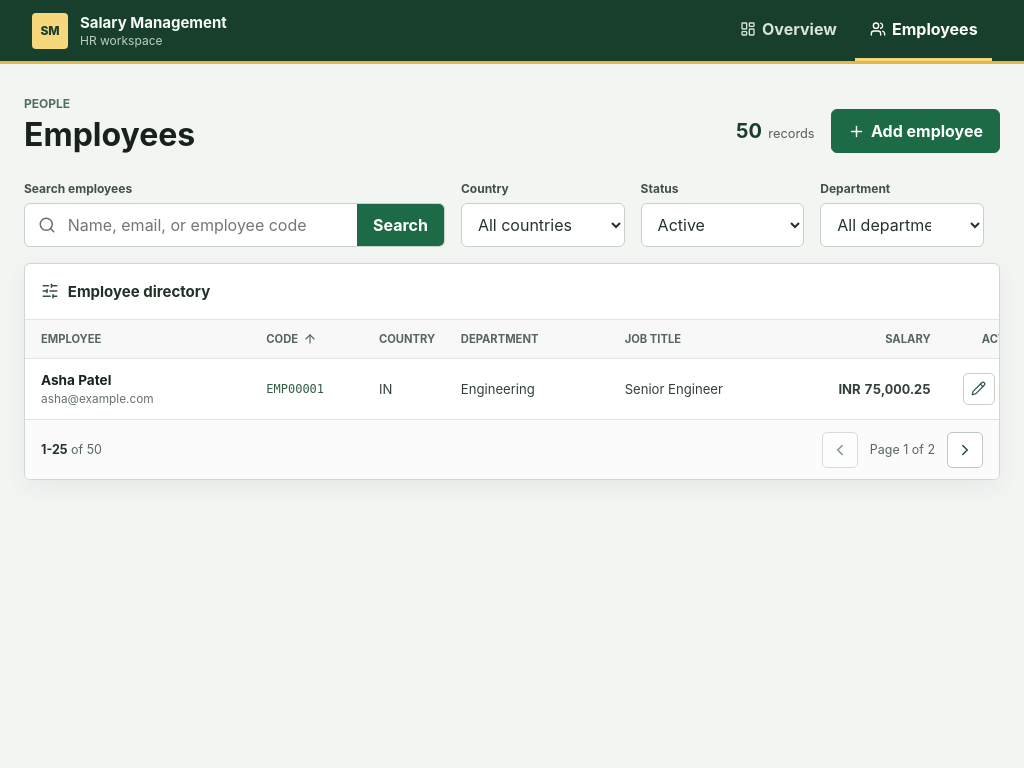
Test: shows salary validation and prevents duplicate salary submissions
Expected: the text "Asha Patel" is shown, [41,372,111,388]
Click the button named "Edit salary for Asha Patel". click: (979, 389)
box: [963,373,995,405]
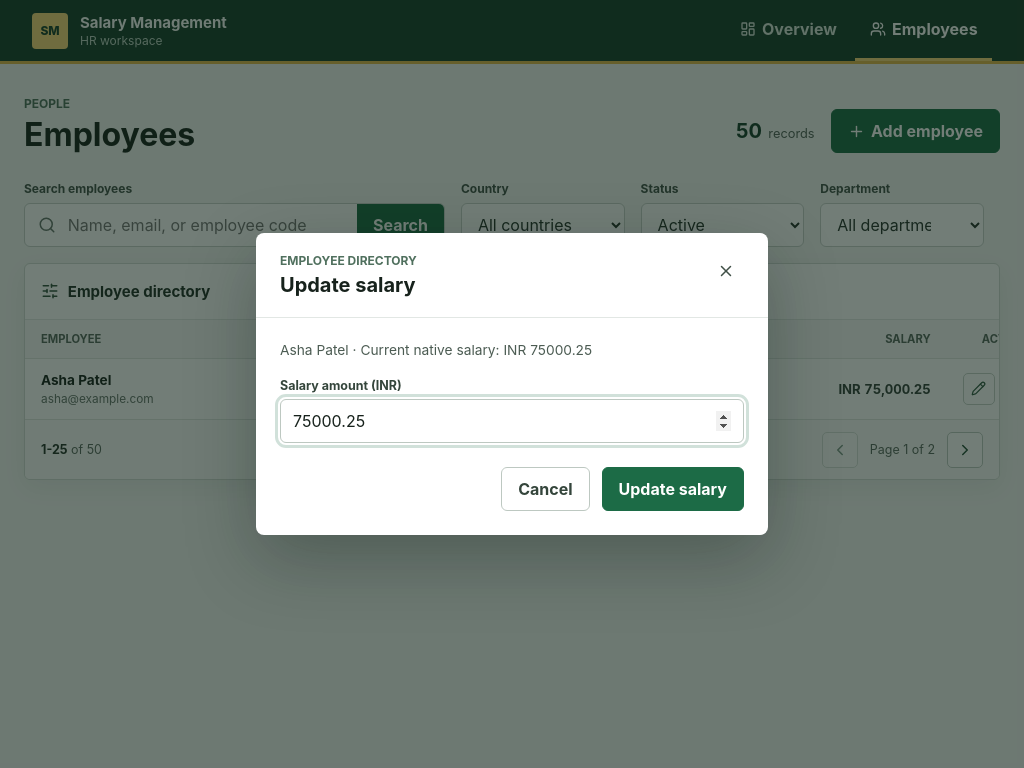
Click the button "Update salary". click: (673, 490)
box: [602,468,744,512]
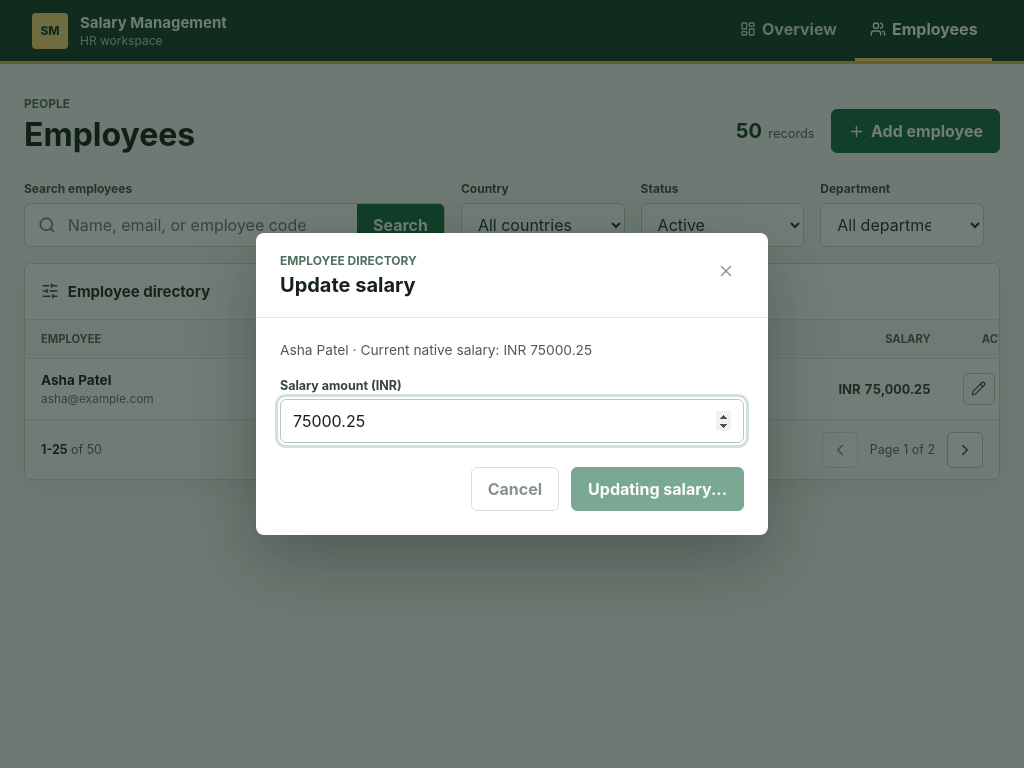
Click the button named "Update salary". click: (658, 490)
box: [571,468,744,512]
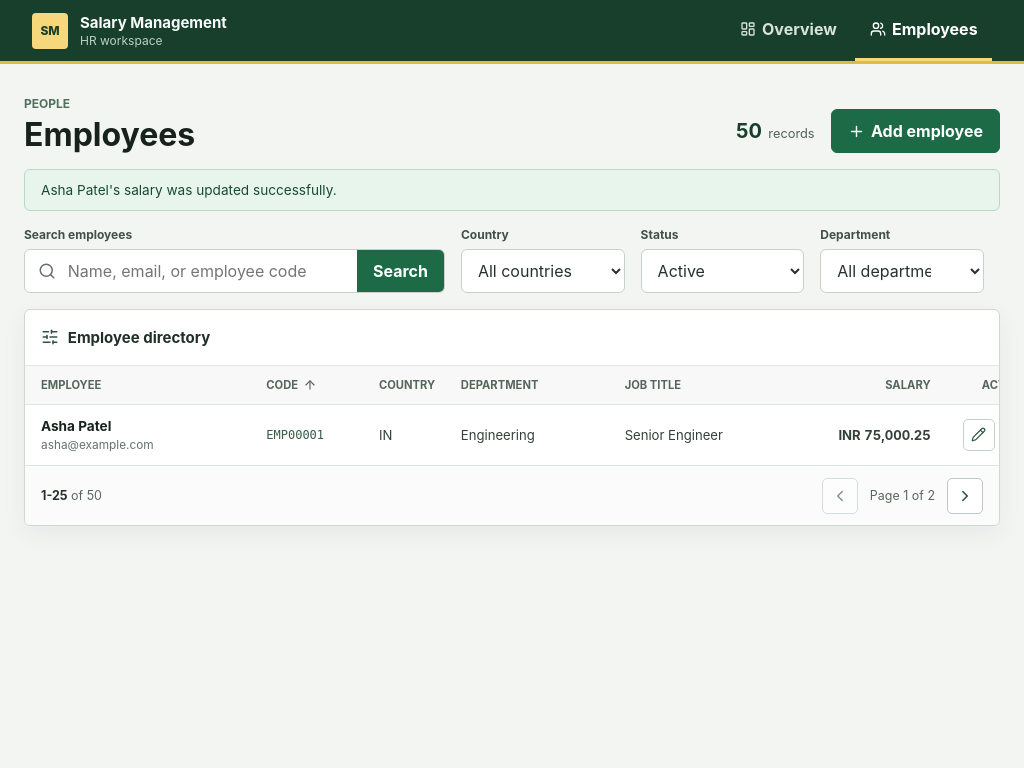
Expected: the dialog is gone
Click the button named "Edit salary for Asha Patel". click: (979, 435)
box: [963,419,995,451]
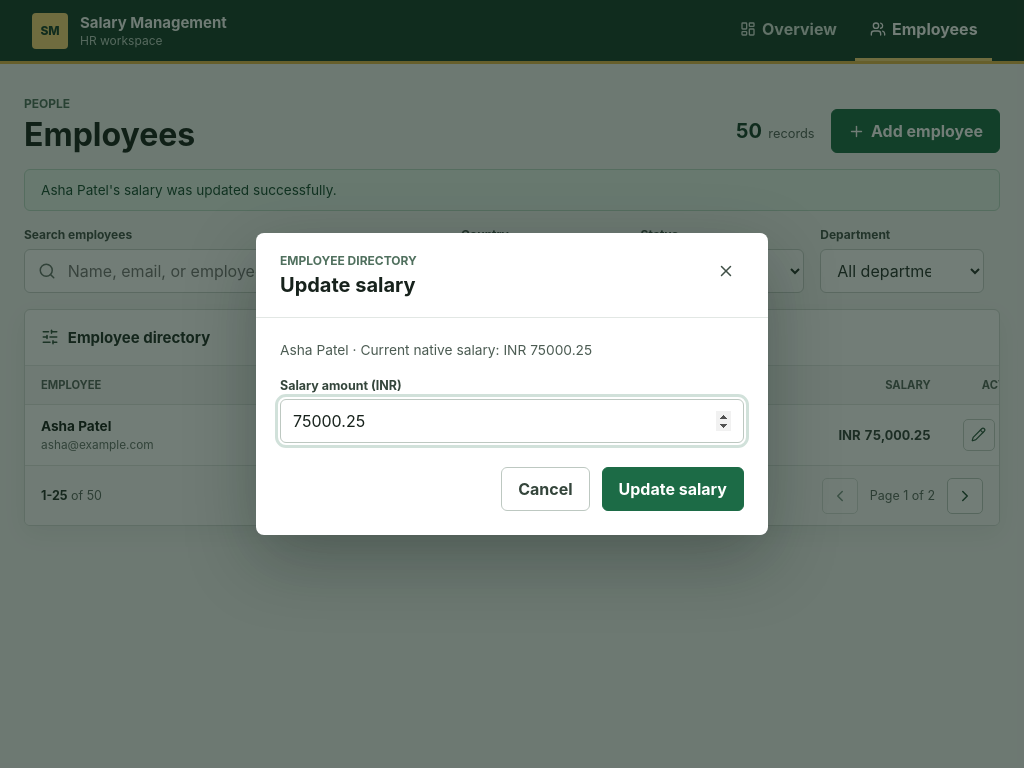
Click the button "Update salary". click: (673, 490)
box: [602,468,744,512]
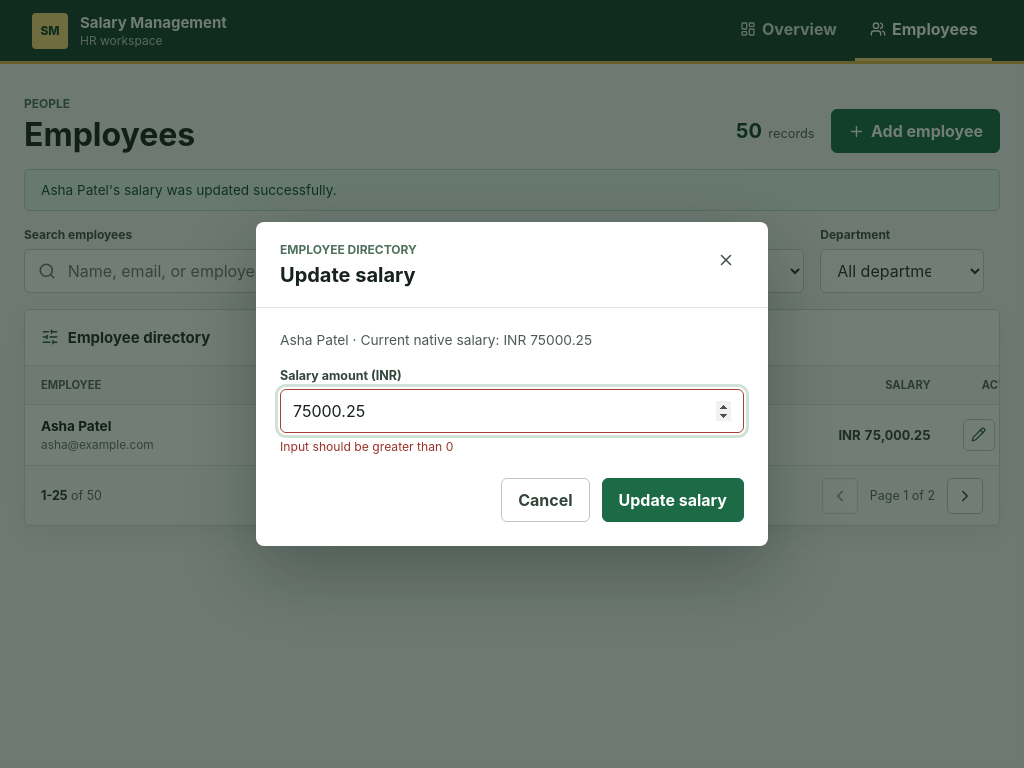
Expected: the text "Input should be greater than 0" is shown, [280,439,453,454]
